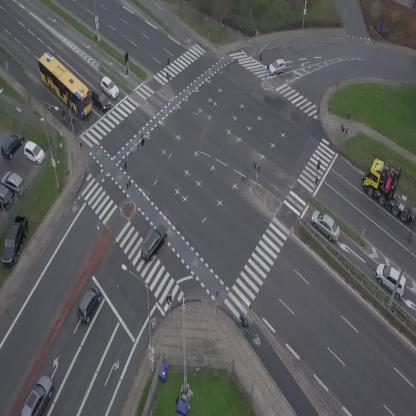bicycle: (235, 312, 253, 335), (218, 18, 227, 30), (61, 108, 66, 123)
bus: (29, 49, 100, 120)
car: (369, 259, 414, 302), (18, 373, 60, 416), (135, 222, 172, 265), (306, 207, 346, 244), (72, 282, 106, 324), (86, 87, 114, 114), (97, 75, 122, 101), (267, 57, 288, 76)
